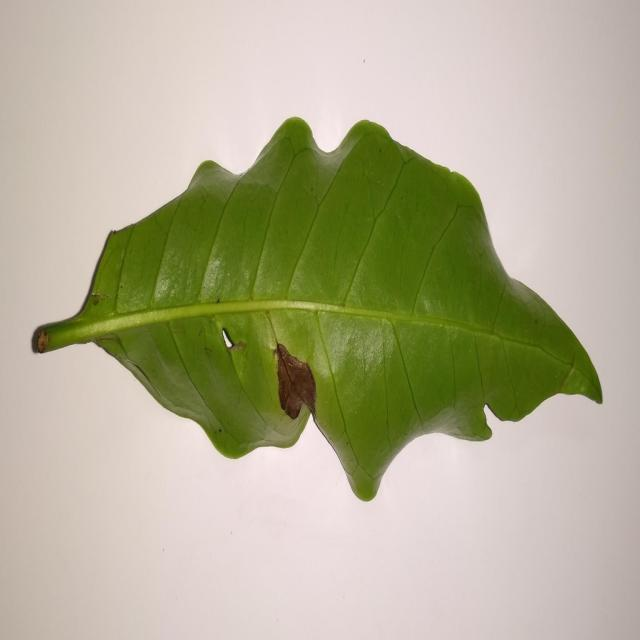Enfermedad-Antracnosis: (30, 118, 603, 504)
